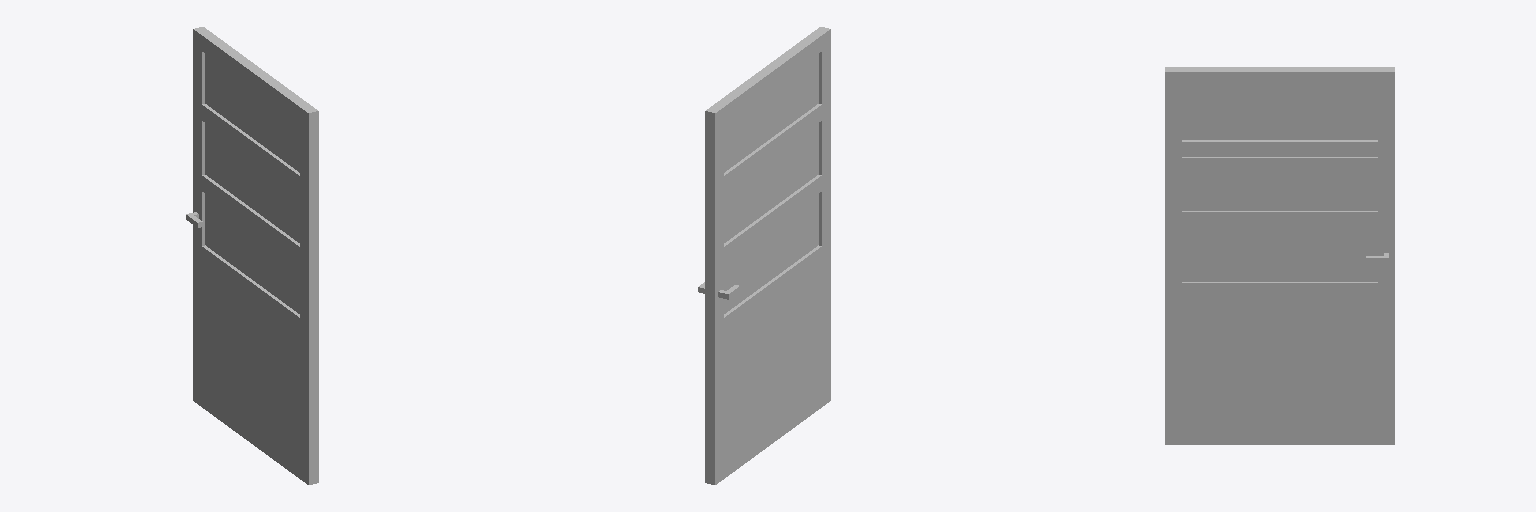
The model's file is DoorType_[4_long]_1.obj.
3 views of the same model, side by side, from view 1: azimuth 30°, elevation 25°; view 2: azimuth 150°, elevation 25°; view 3: azimuth 270°, elevation 25° (orthographic).
Visible parts, largest first — view 1: DoorType_[4_long]_1; view 2: DoorType_[4_long]_1; view 3: DoorType_[4_long]_1.
Boxes of the visible parts, x1=… form: DoorType_[4_long]_1: x1=186, y1=27, x2=318, y2=484; DoorType_[4_long]_1: x1=698, y1=27, x2=830, y2=484; DoorType_[4_long]_1: x1=1165, y1=67, x2=1394, y2=444.
Size of the model in its own units: 0.18 by 2.1 by 1.18.